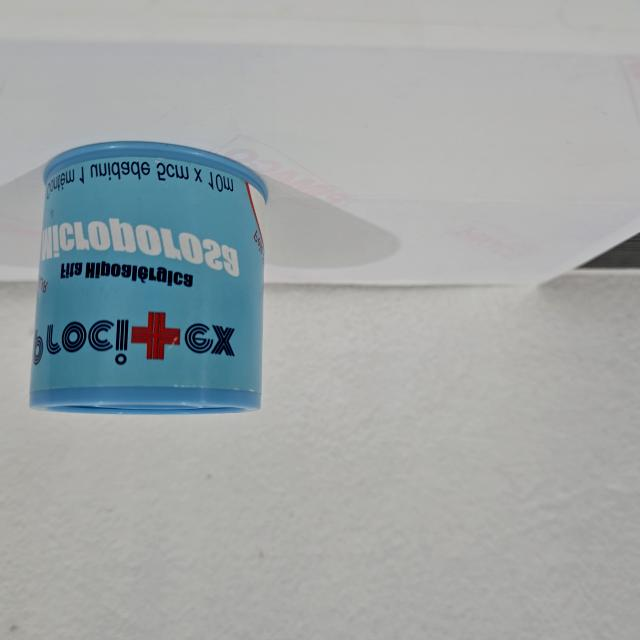procitex: (25, 136, 274, 418)
